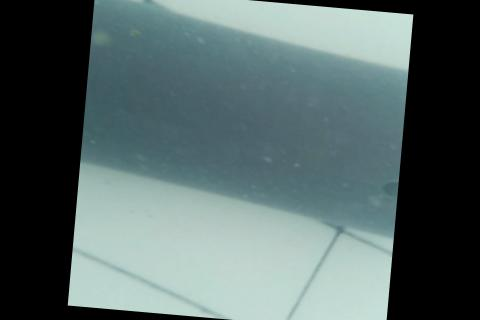kebocoran: (378, 178, 399, 199)
